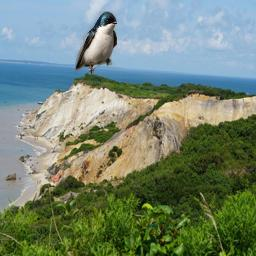Swallow: (75, 11, 117, 74)
